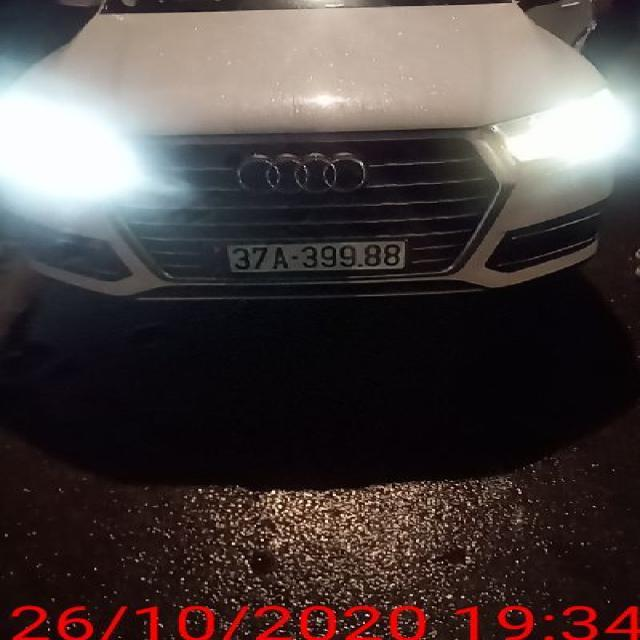bien_so_oto: (225, 239, 412, 275)
